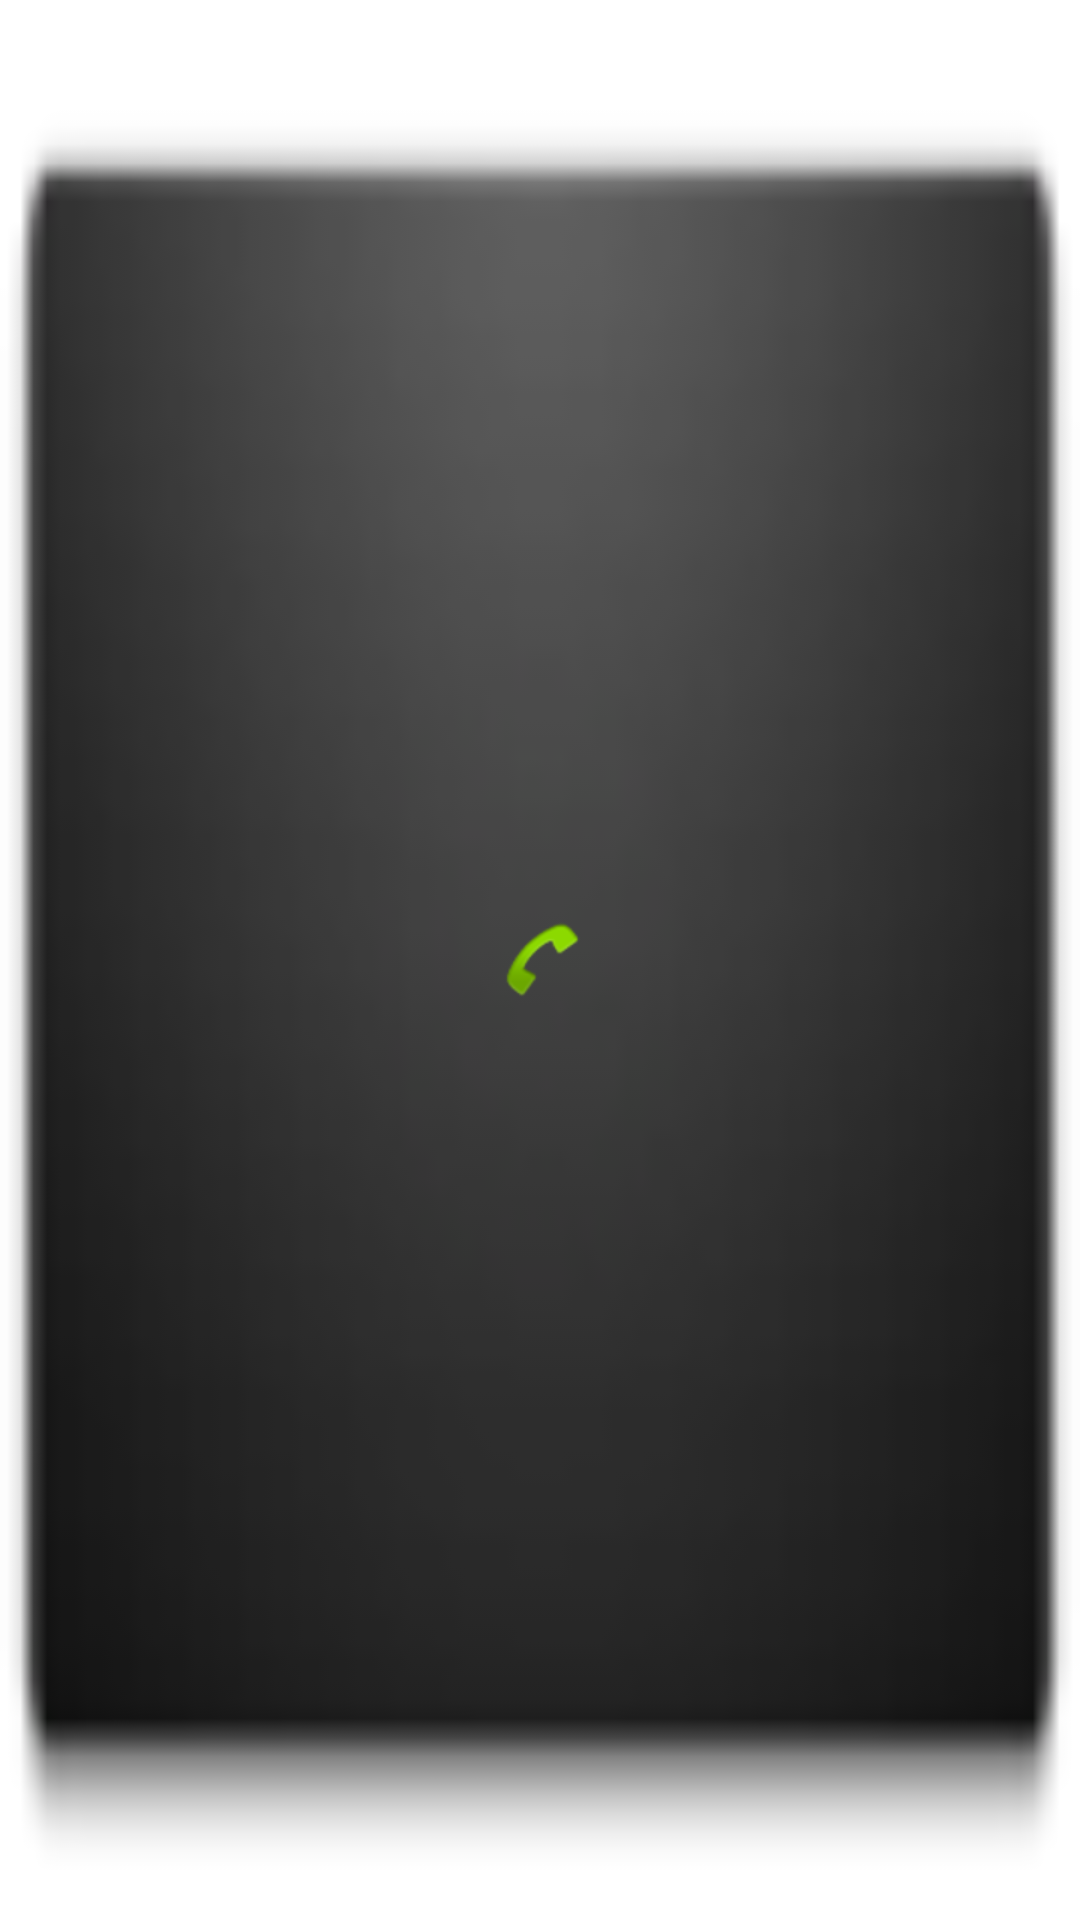

Named icons in this screenshot (1080×1920) and their bounding boxes, (x1=x1, y1=y1, x2=x2, y2=y2):
sym action call: (x1=507, y1=924, x2=578, y2=995)
